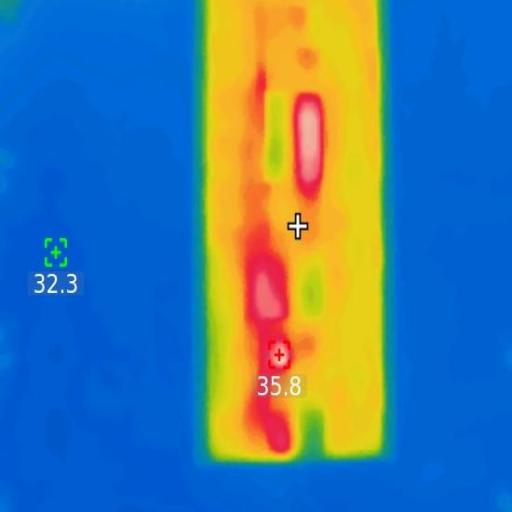hotspot: (296, 95, 323, 201), (251, 258, 284, 330), (259, 392, 289, 454), (261, 338, 292, 372)
